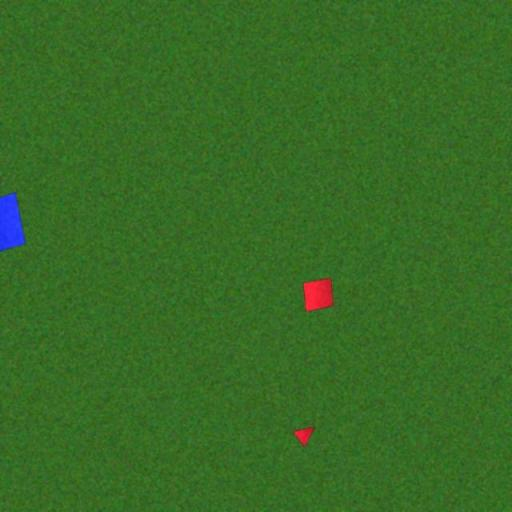BLUE_SQUARE: (0, 191, 26, 259)
RED_SQUARE: (302, 277, 334, 313)
